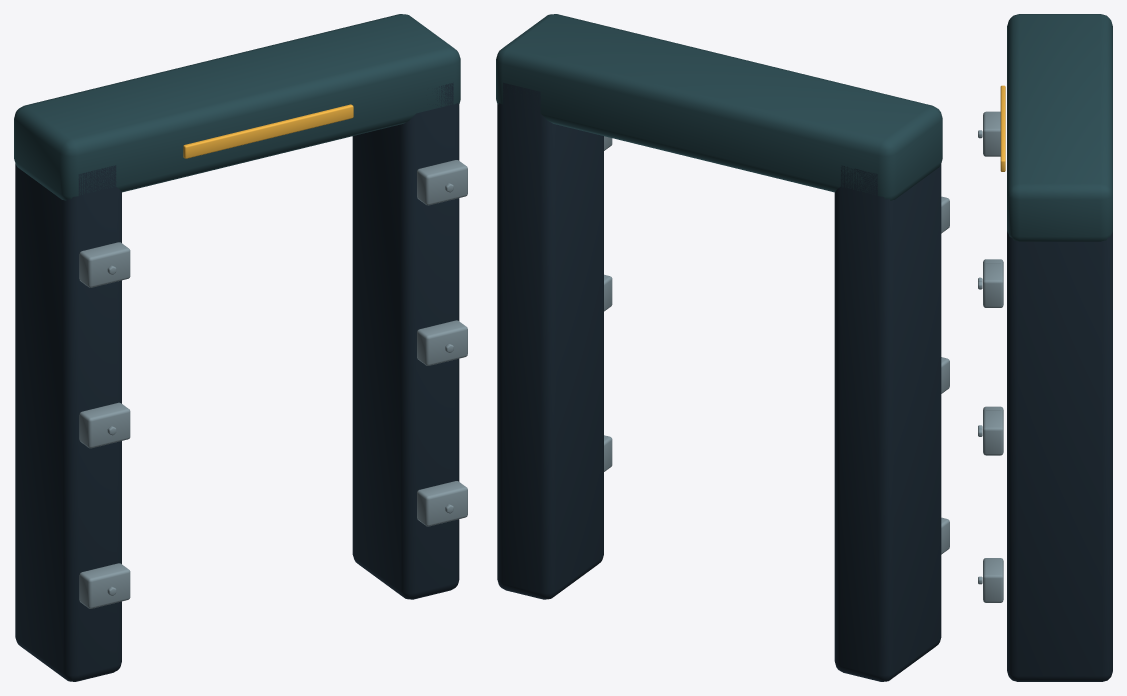
Rendered from pressure_lock_frame.glb.
3 views of the same model, side by side, from view 1: azimuth 30°, elevation 25°; view 2: azimuth 150°, elevation 25°; view 3: azimuth 270°, elevation 25° (orthographic). The views are drawn at different scales.
Visible parts, largest first — view 1: Pressure lock jamb, Pressure lock lintel, Lock lug, Warning header; view 2: Pressure lock jamb, Pressure lock lintel, Lock lug; view 3: Pressure lock jamb, Pressure lock lintel, Lock lug, Warning header.
Part boxes in pixels (x1,y1,x2,y2): Pressure lock jamb: [15, 82, 459, 681]; Pressure lock lintel: [14, 14, 460, 200]; Lock lug: [79, 160, 467, 608]; Warning header: [183, 104, 353, 158]; Pressure lock jamb: [497, 82, 941, 681]; Pressure lock lintel: [496, 14, 942, 200]; Lock lug: [604, 136, 949, 554]; Pressure lock jamb: [1007, 231, 1112, 681]; Pressure lock lintel: [1007, 14, 1112, 241]; Lock lug: [978, 111, 1003, 602]; Warning header: [1000, 85, 1005, 171].
Bounding box in the file's own units: 5.2 × 6.75 × 1.66.
